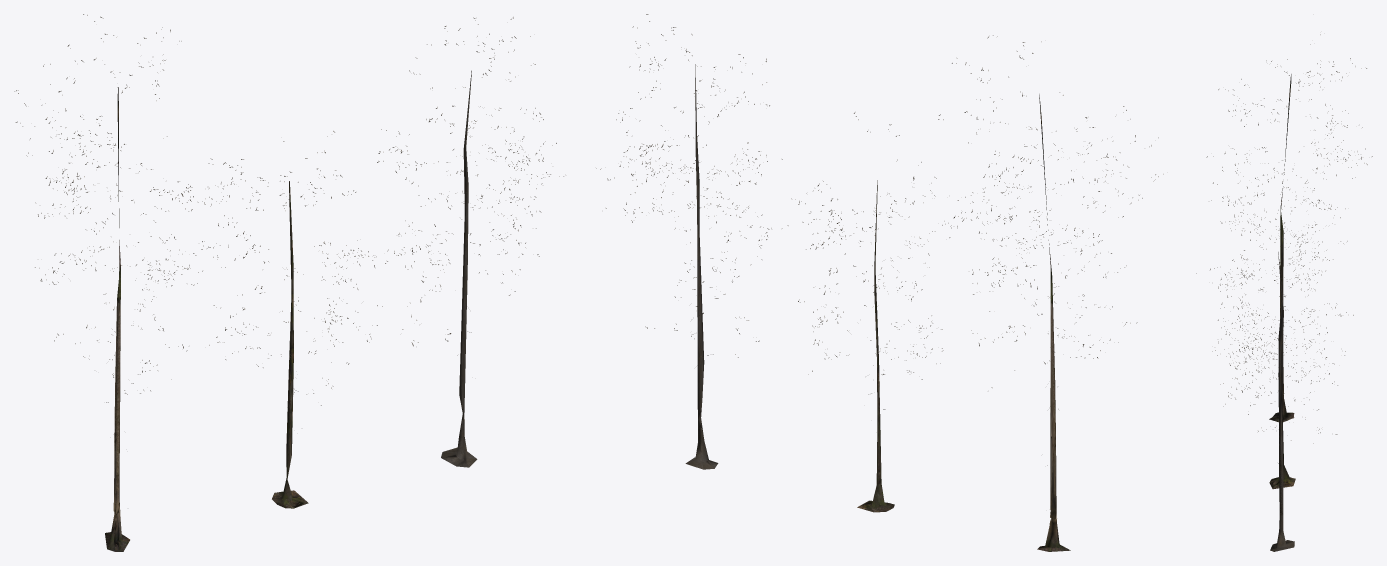
Rendered from pine_tree_01.glb.
3 views of the same model, side by side, from view 1: azimuth 30°, elevation 25°; view 2: azimuth 150°, elevation 25°; view 3: azimuth 270°, elevation 25° (orthographic). The views are drawn at different scales.
Visible parts, largest first — view 1: pine_tree_01_a_LOD0, pine_tree_01_c_LOD0, pine_tree_01_b_LOD0; view 2: pine_tree_01_a_LOD0, pine_tree_01_c_LOD0, pine_tree_01_b_LOD0; view 3: pine_tree_01_a_LOD0, pine_tree_01_c_LOD0, pine_tree_01_b_LOD0.
Boxes of the visible parts, bbox=[...] form: pine_tree_01_a_LOD0: bbox=[14, 14, 563, 551]; pine_tree_01_c_LOD0: bbox=[441, 70, 477, 467]; pine_tree_01_b_LOD0: bbox=[272, 181, 308, 508]; pine_tree_01_a_LOD0: bbox=[596, 14, 1163, 551]; pine_tree_01_c_LOD0: bbox=[685, 64, 718, 469]; pine_tree_01_b_LOD0: bbox=[857, 180, 894, 512]; pine_tree_01_a_LOD0: bbox=[1196, 34, 1372, 477]; pine_tree_01_c_LOD0: bbox=[1270, 252, 1294, 551]; pine_tree_01_b_LOD0: bbox=[1269, 236, 1295, 489].
Size of the model in its own units: 21.17 by 20.17 by 8.02.
Materials: 5 (5 with a texture image).
